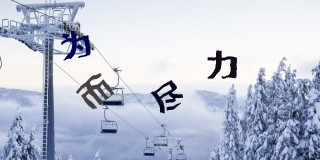为: (60, 31, 94, 59)
力: (206, 50, 238, 79)
尽: (151, 78, 184, 113)
而: (75, 72, 114, 110)
